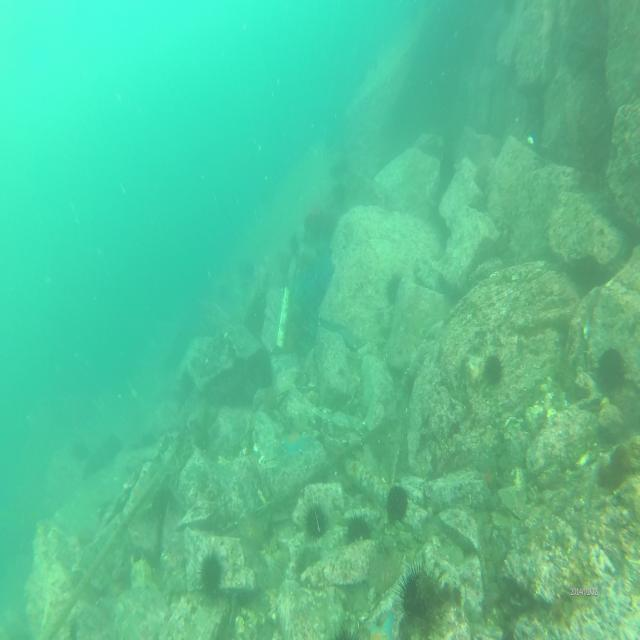echinus: (398, 565, 433, 616), (596, 347, 626, 395), (198, 551, 224, 597), (385, 484, 410, 523), (304, 502, 328, 542), (346, 514, 372, 546), (483, 352, 505, 389), (386, 272, 402, 304)
starfish: (278, 428, 308, 462), (367, 612, 397, 640)
